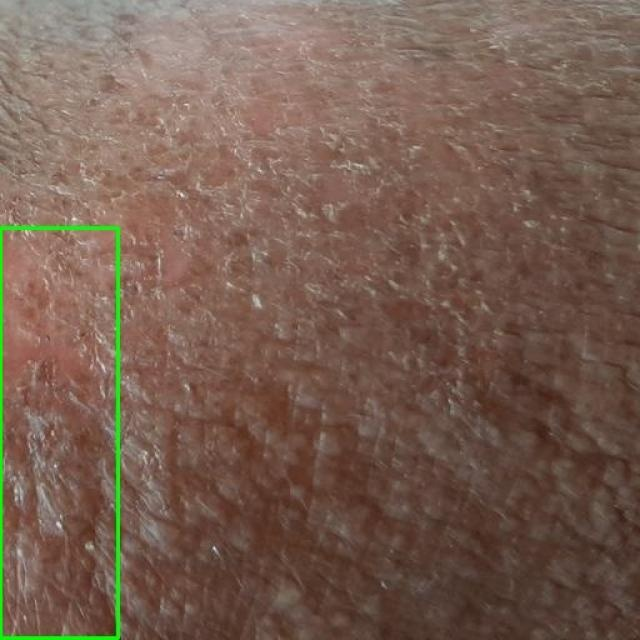Seborrheic Dermatitis: (0, 229, 119, 639)
